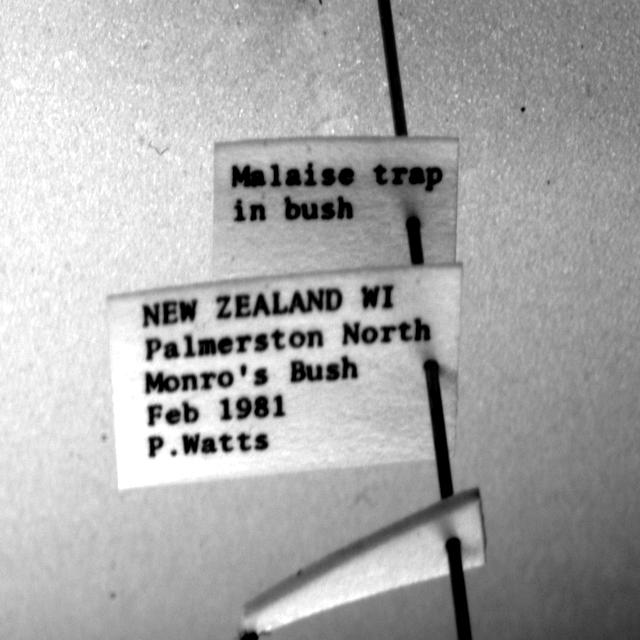typed_label: (109, 264, 461, 489), (214, 137, 459, 279)
